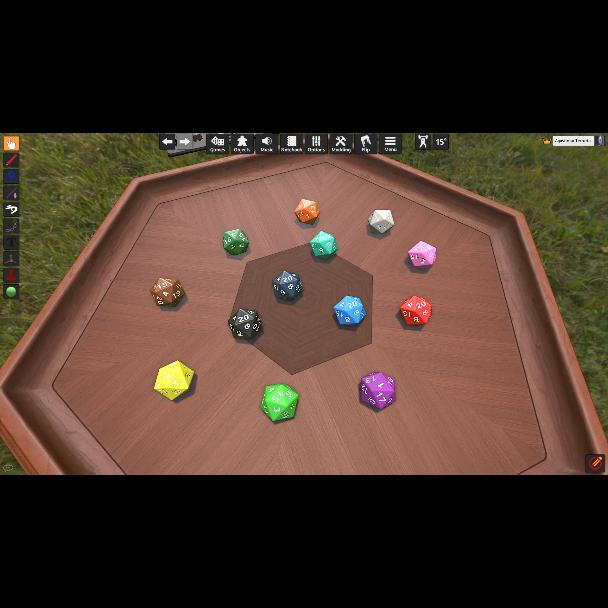d20: (260, 382, 300, 422), (154, 361, 194, 399), (358, 372, 392, 408), (151, 276, 186, 307), (228, 310, 262, 340), (332, 296, 363, 326), (273, 270, 303, 300), (402, 295, 430, 324), (311, 230, 338, 258), (222, 228, 248, 256), (408, 241, 434, 269), (294, 199, 318, 225), (368, 210, 392, 234)
